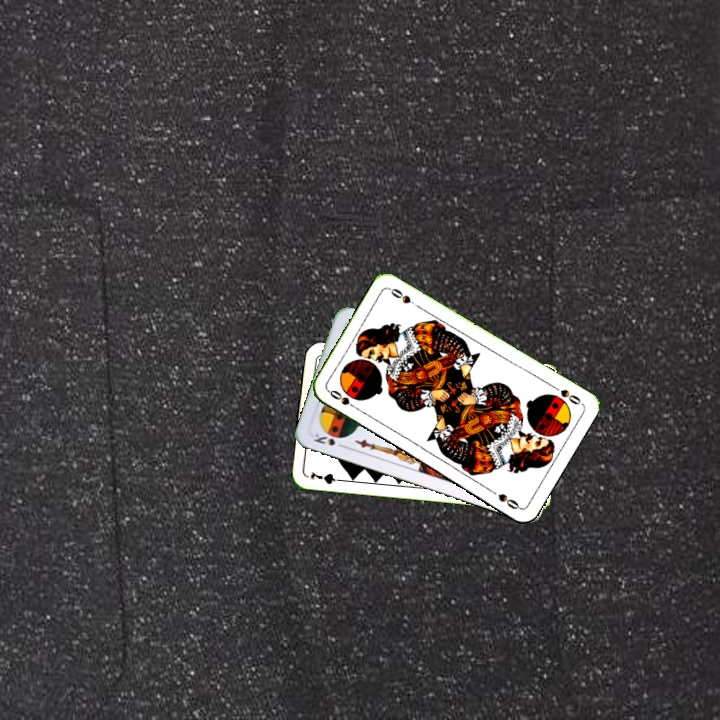G7: (306, 468, 347, 487)
SK: (309, 429, 348, 451)
SO: (325, 386, 361, 413), (548, 381, 585, 407)
